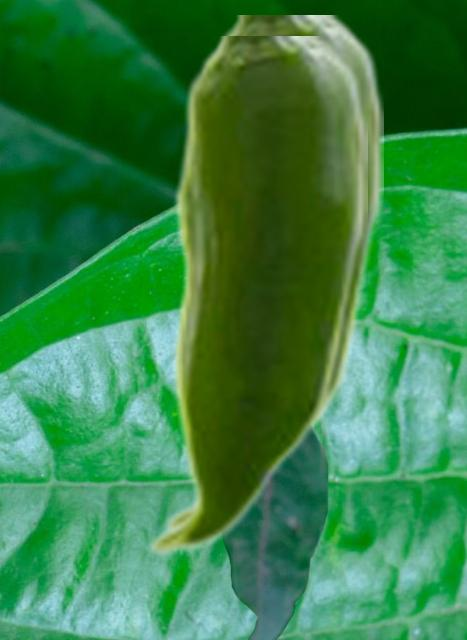green_chili: (144, 36, 366, 558), (160, 15, 382, 527)
